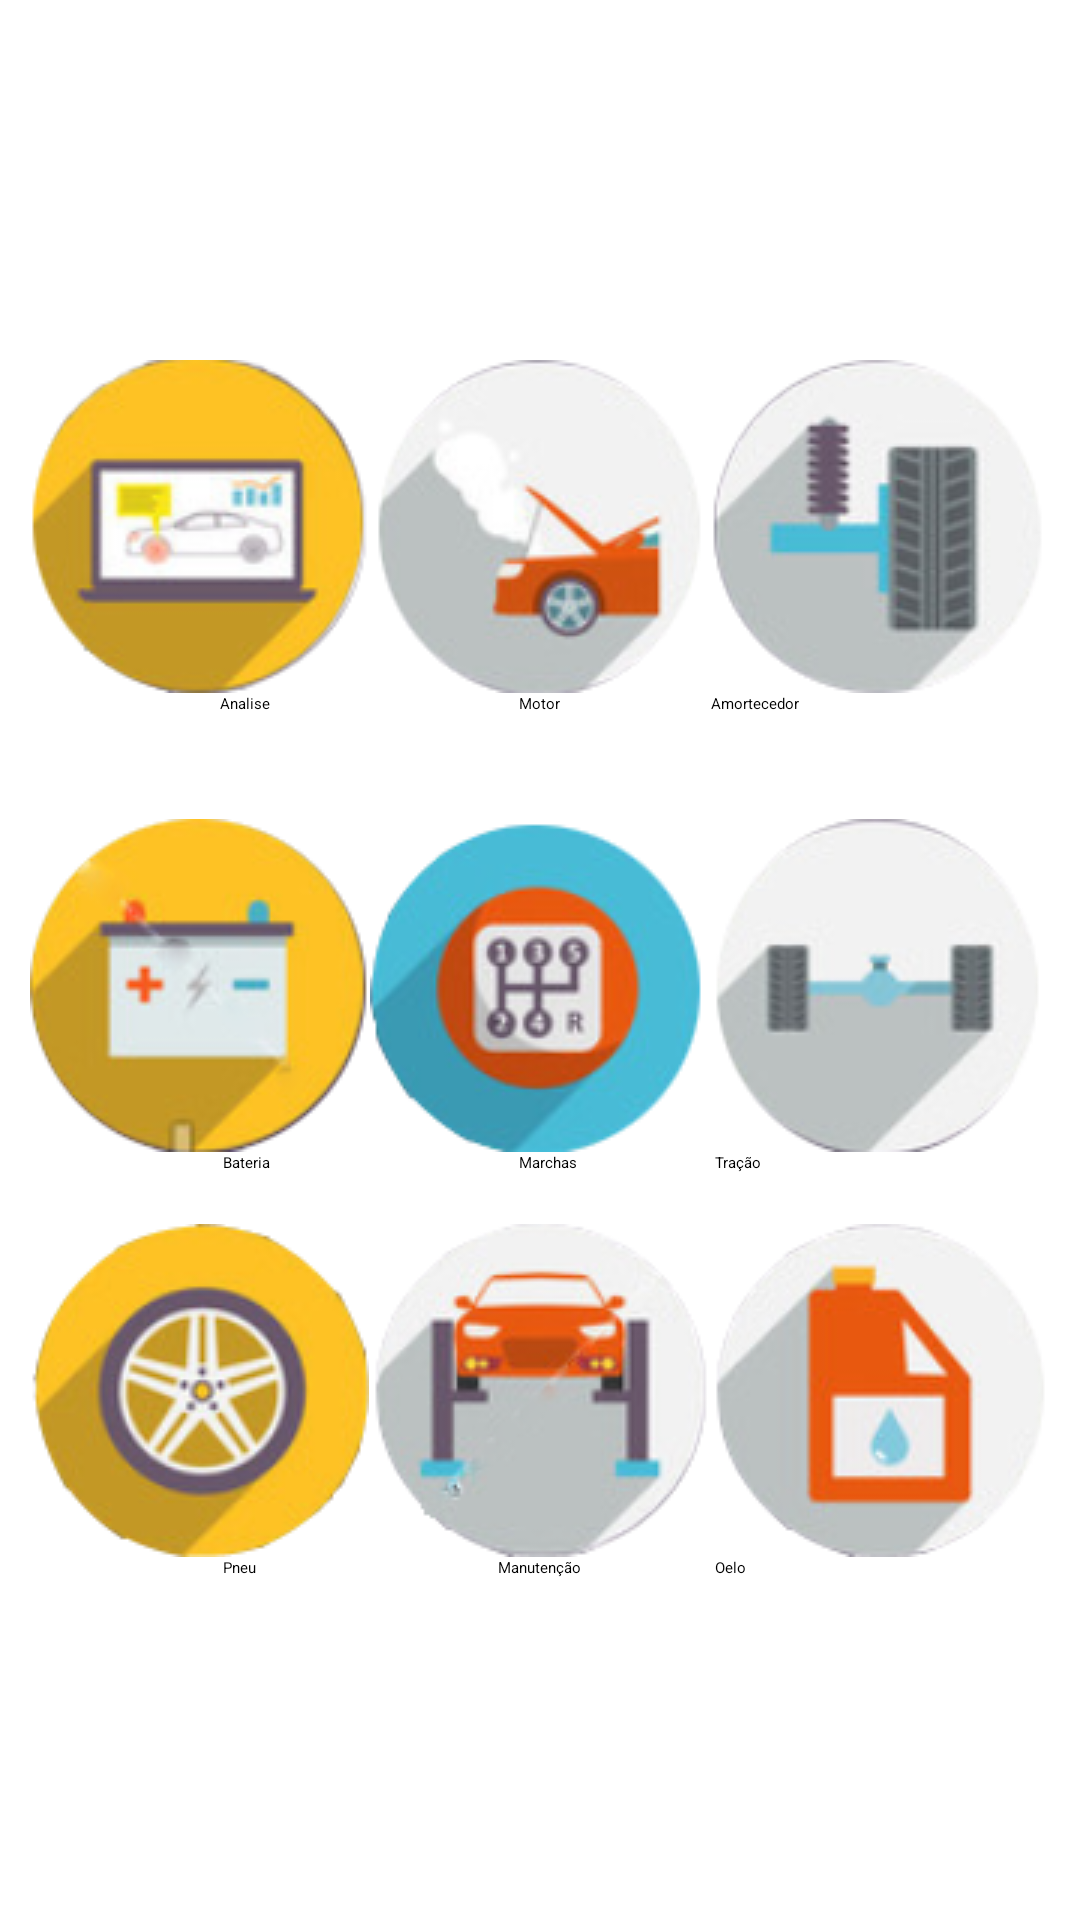

Named icons in this screenshot (1080px x 1920px) and their centers, point (x, y):
roda: point (200, 1390)
